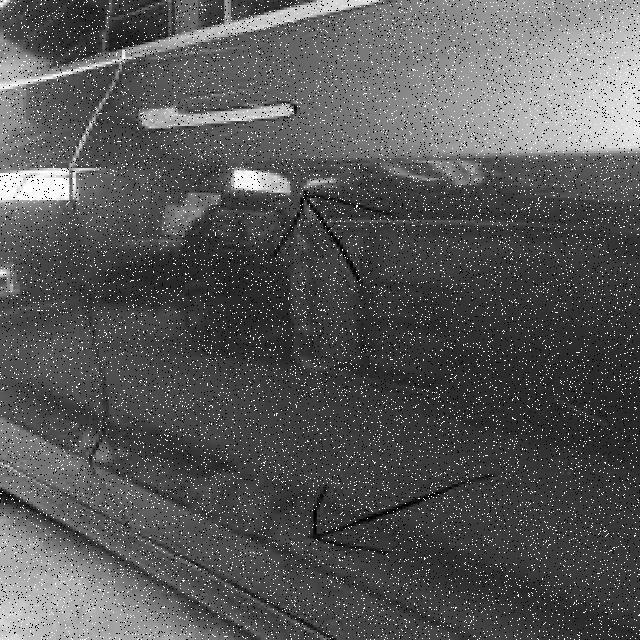doorouter-dent: (89, 58, 633, 611)
